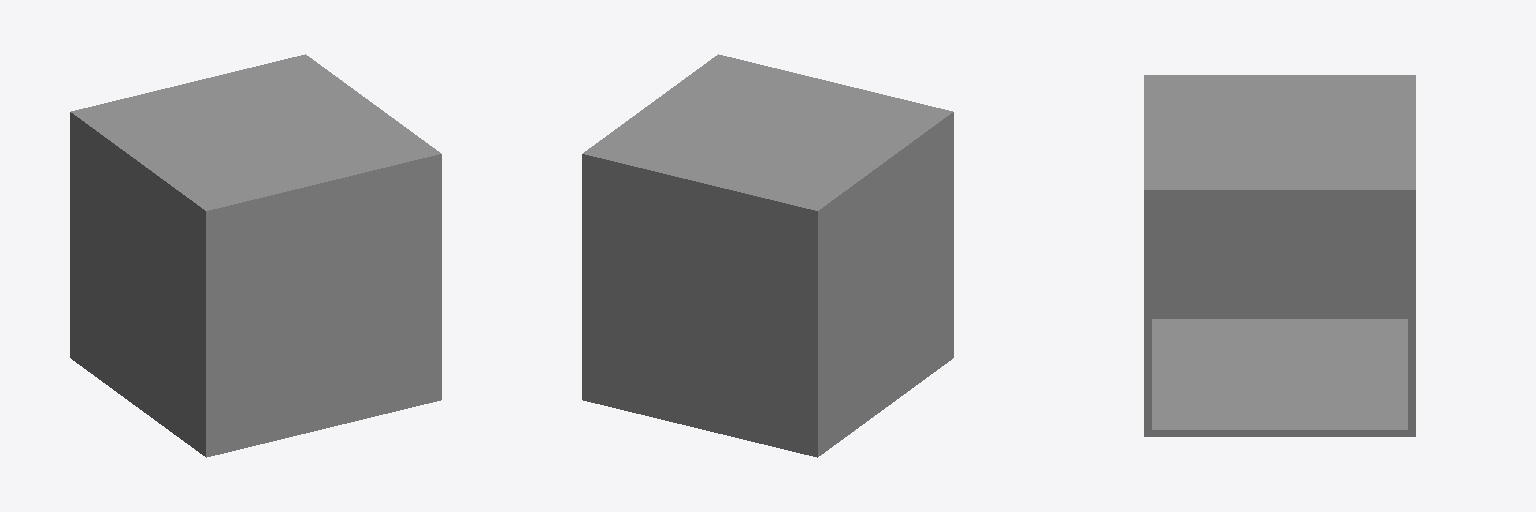
The model's file is abcd.obj.
3 renders of one model, left to right at view 1: azimuth 30°, elevation 25°; view 2: azimuth 150°, elevation 25°; view 3: azimuth 270°, elevation 25°, orthographic.
Parts seen in each view (by area): view 1: Cube_Cube.001; view 2: Cube_Cube.001; view 3: Cube_Cube.001.
Boxes of the visible parts, <box> form: Cube_Cube.001: <box>70,54,441,457</box>; Cube_Cube.001: <box>582,54,953,457</box>; Cube_Cube.001: <box>1144,75,1415,436</box>.
Bounding box in the file's own units: 60 × 60 × 60.